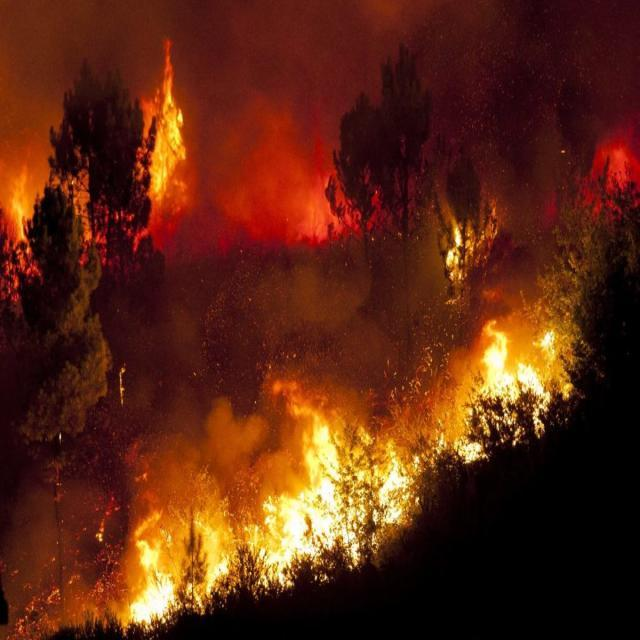Fire: (126, 322, 563, 637), (142, 71, 185, 193)
Smoke: (13, 198, 438, 627), (2, 4, 639, 239)
